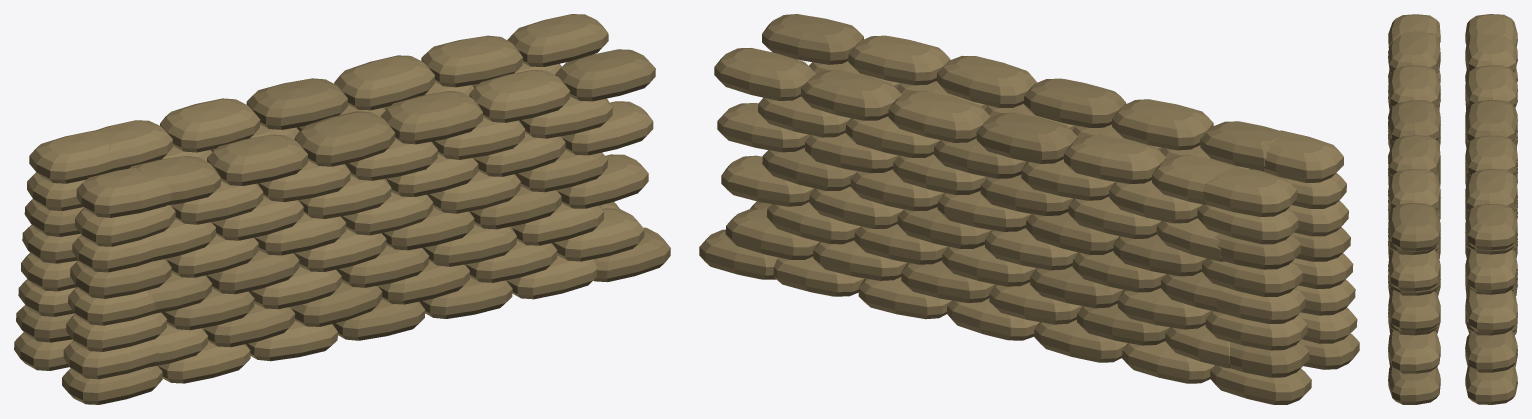
The model's file is sandbags.glb.
3 views of the same model, side by side, from view 1: azimuth 30°, elevation 25°; view 2: azimuth 150°, elevation 25°; view 3: azimuth 270°, elevation 25° (orthographic). The views are drawn at different scales.
Visible parts, largest first — view 1: root; view 2: root; view 3: root.
Boxes of the visible parts, x1,y1,x2,y2 form: root: (14,14,670,404); root: (699,14,1359,404); root: (1388,14,1517,404).
Bounding box in the file's own units: 3.34 × 1.15 × 0.7787.
